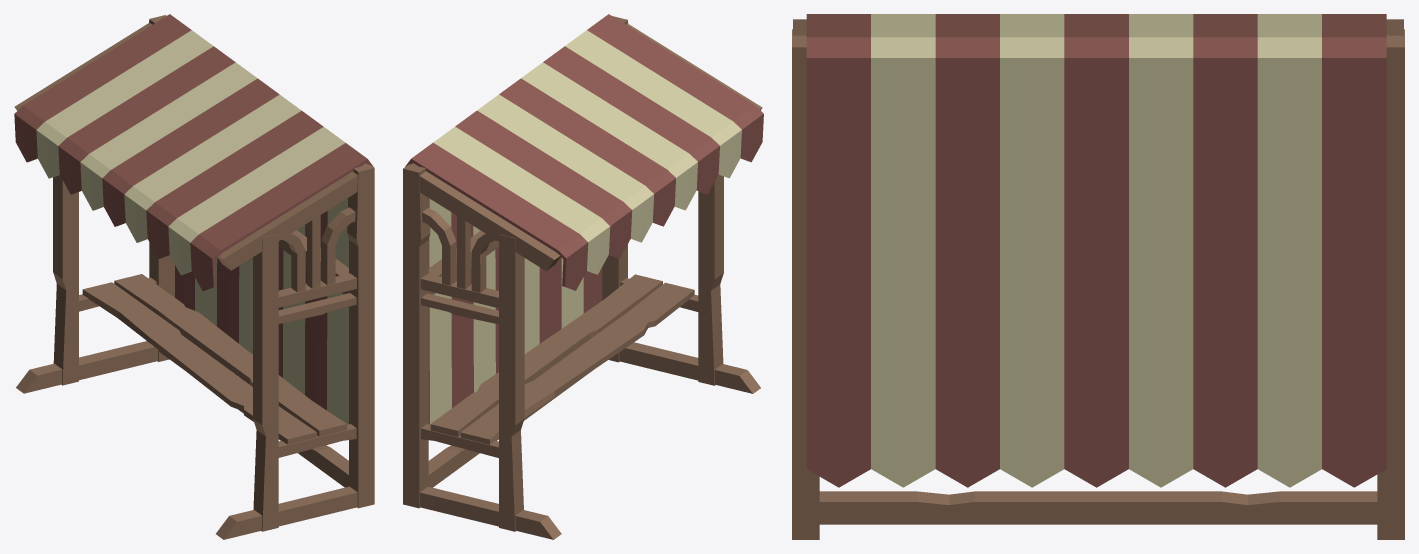
File: MarketStand_2.glb
The picture shows the model from 3 angles, left to right: view 1: azimuth 30°, elevation 25°; view 2: azimuth 150°, elevation 25°; view 3: azimuth 270°, elevation 25°; orthographic projection. The views are drawn at different scales.
Parts seen in each view (by area): view 1: Wood, RoofTiles_Red, Beige; view 2: Wood, RoofTiles_Red, Beige; view 3: RoofTiles_Red, Beige, Wood.
Part boxes in pixels (box(x1,y1,x2,y2)): Wood: box(14, 15, 374, 539); RoofTiles_Red: box(14, 14, 373, 410); Beige: box(36, 30, 348, 424); Wood: box(403, 16, 762, 539); RoofTiles_Red: box(405, 14, 763, 424); Beige: box(429, 30, 741, 424); RoofTiles_Red: box(806, 14, 1386, 487); Beige: box(871, 14, 1321, 487); Wood: box(792, 19, 1404, 539).
Bounding box in the file's own units: 0.5172 × 1.04 × 1.15.
